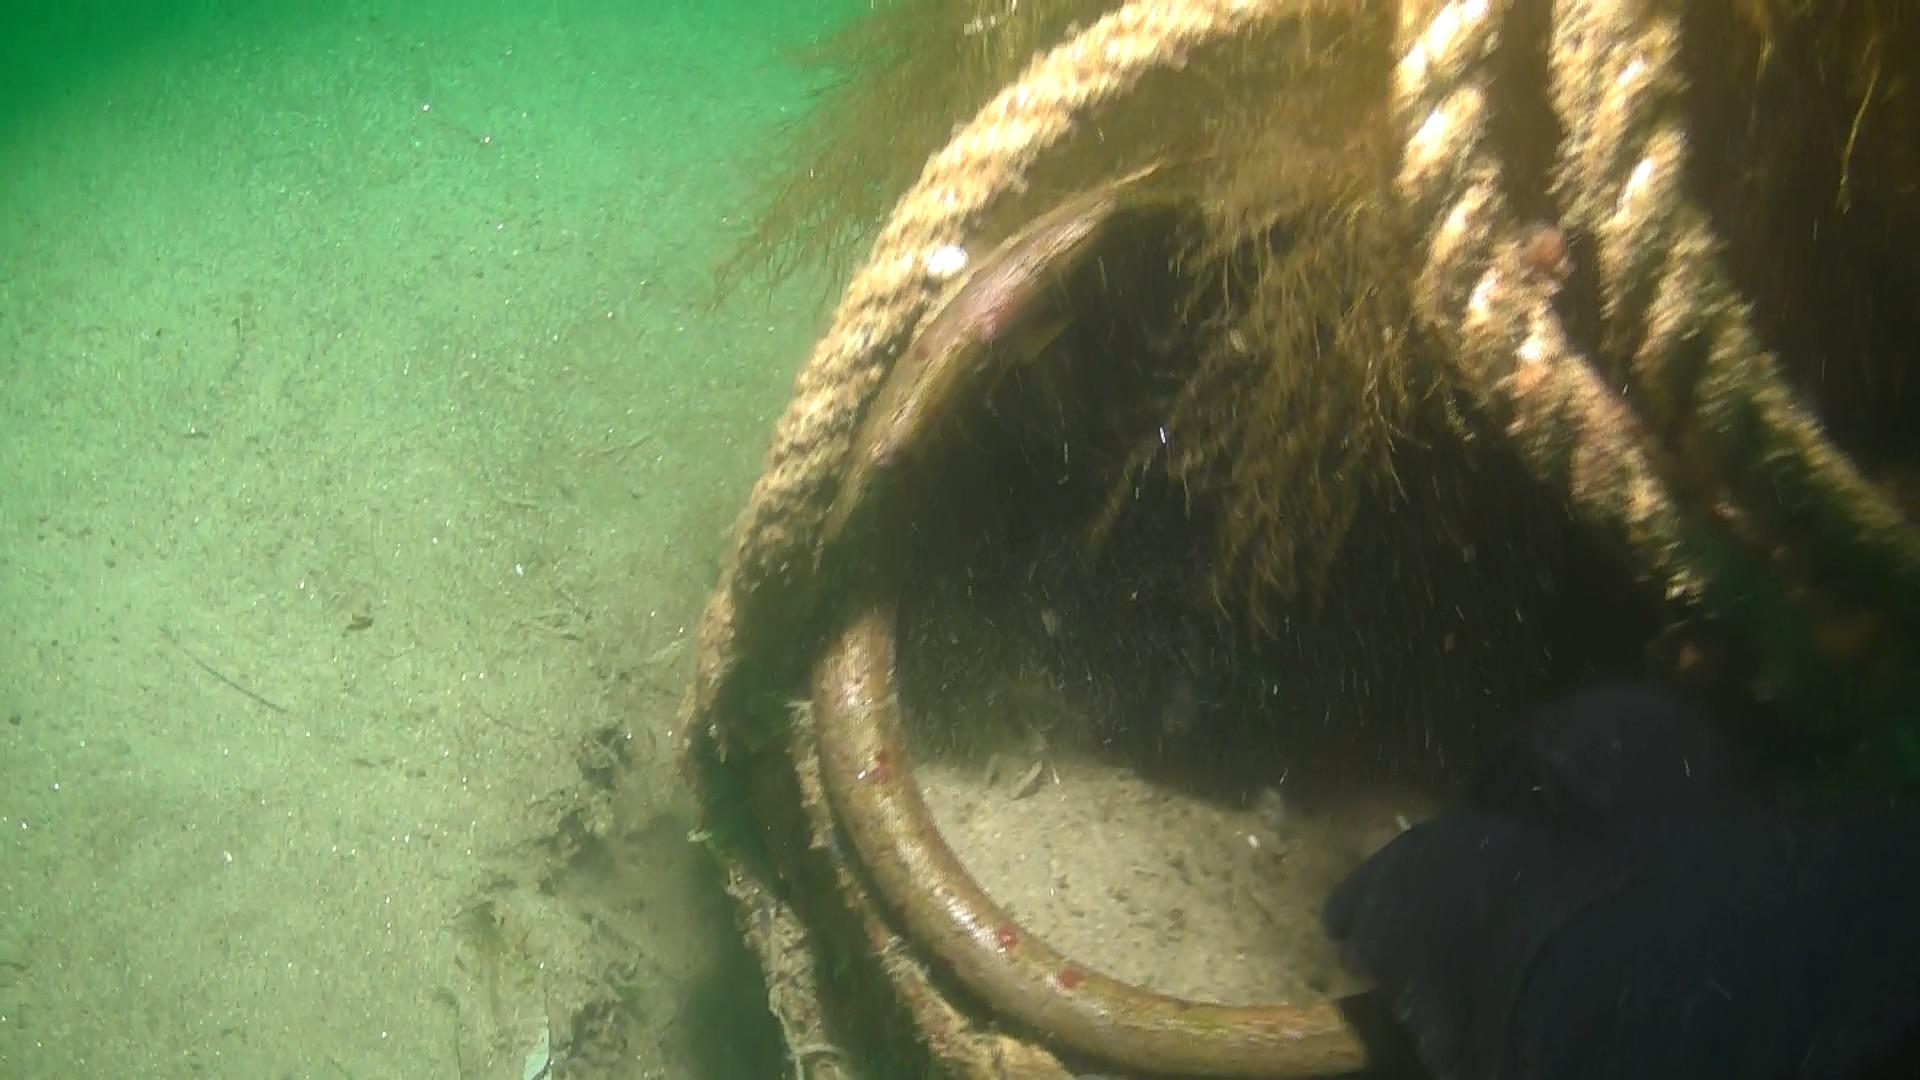bundle of ropes: (671, 0, 1920, 1076)
